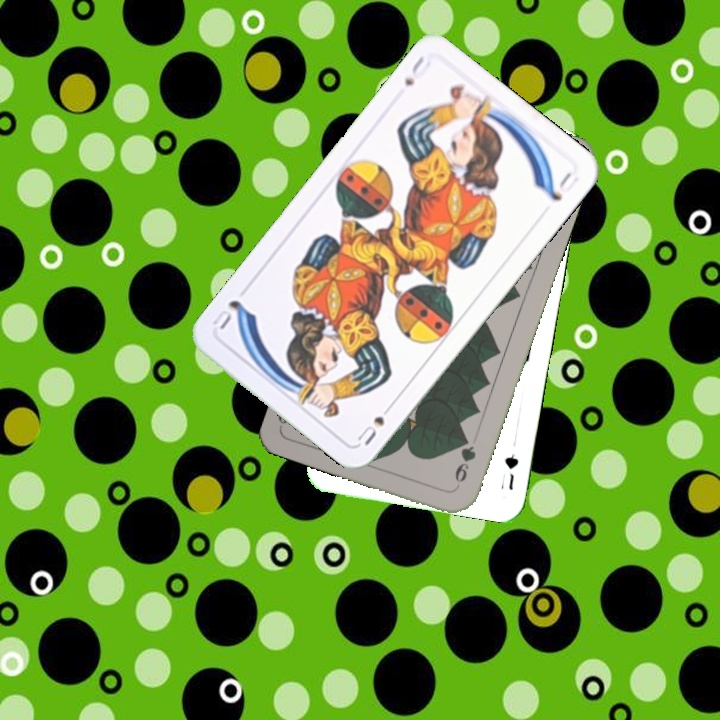G9: (450, 432, 479, 491)
GU: (500, 450, 521, 493)
SU: (353, 397, 397, 448), (400, 52, 434, 89)
